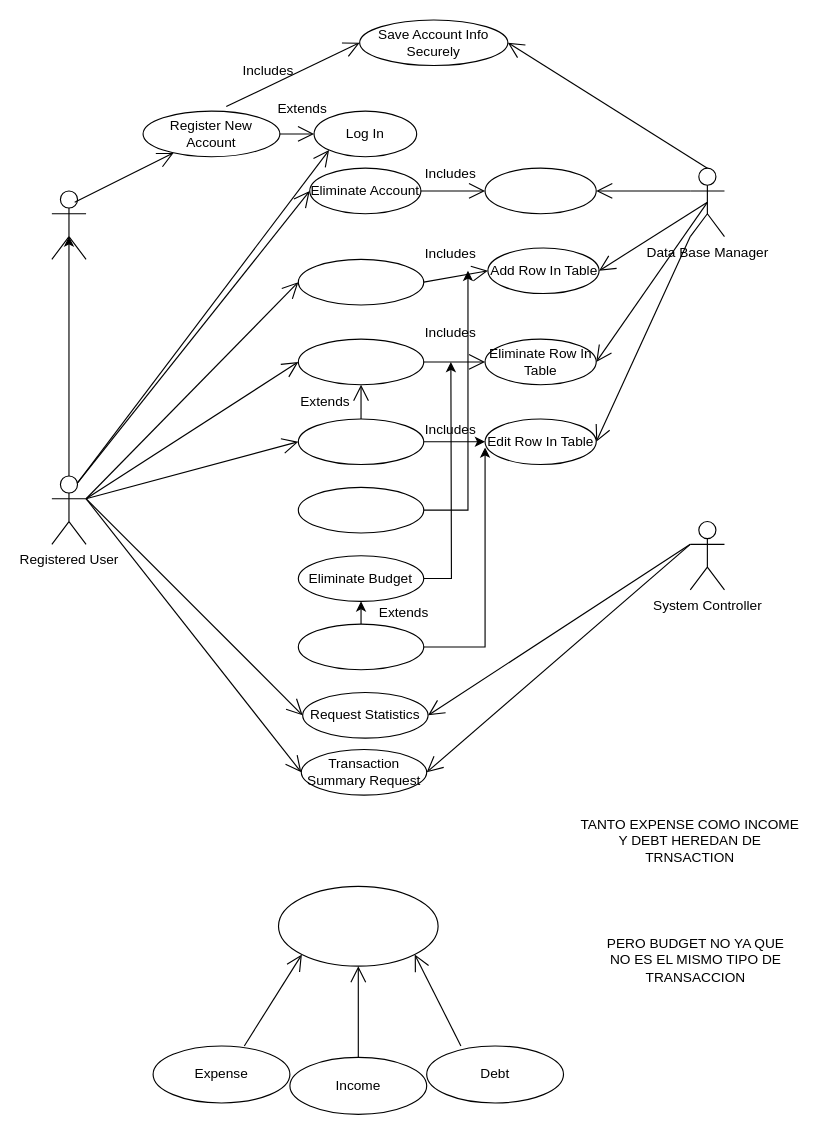
Some shapes in this 824 by 1134 pixel diagram are drawn without their labels. The box of each missing label's shape, as (x1, y1, x2, y2) in pixels:
Add Budget: (297, 486, 424, 533)
Add Transaction: (297, 258, 424, 305)
Edit Budget: (297, 623, 424, 670)
Edit Transaction: (297, 418, 424, 465)
Eliminate Transaction: (297, 338, 424, 385)
Erase Info from DB: (484, 167, 596, 214)
TRANSACTION: (277, 885, 438, 966)
User: (51, 190, 86, 259)
